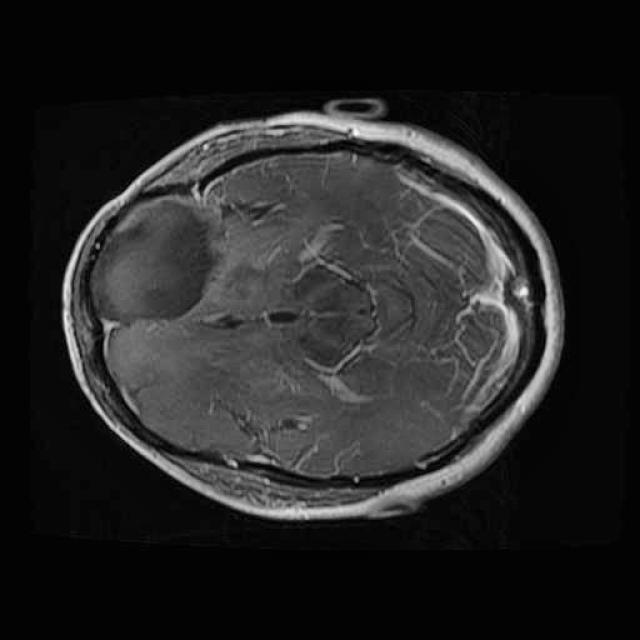Non-Tumor: (81, 189, 219, 334)
